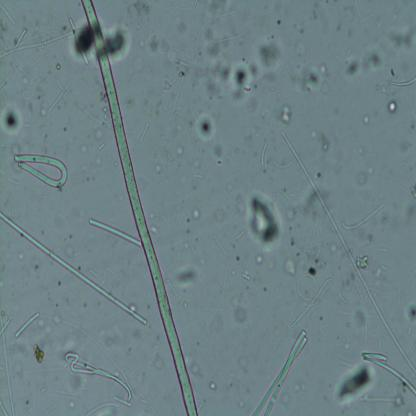Background material: (0, 26, 84, 61), (244, 189, 283, 249), (332, 359, 376, 407), (1, 64, 45, 110), (210, 59, 256, 101), (344, 48, 387, 79), (158, 124, 188, 165), (296, 62, 331, 94), (105, 24, 131, 63), (286, 191, 320, 220), (121, 0, 157, 27), (299, 240, 326, 274), (258, 40, 284, 70), (0, 103, 22, 136), (173, 262, 200, 287), (387, 28, 416, 51), (194, 112, 216, 140), (353, 302, 371, 336), (404, 183, 416, 230), (209, 134, 226, 166), (144, 36, 170, 56), (206, 203, 230, 224), (204, 30, 220, 61), (290, 37, 309, 62), (354, 167, 380, 185), (191, 156, 205, 185), (390, 382, 404, 410), (62, 242, 81, 262), (233, 304, 250, 326), (30, 342, 46, 365), (235, 348, 250, 372), (106, 333, 132, 346), (149, 209, 162, 234), (316, 132, 331, 153), (101, 102, 113, 128), (336, 286, 350, 308), (373, 79, 390, 97), (404, 299, 416, 323), (372, 262, 388, 280), (284, 258, 299, 276), (355, 254, 371, 270), (281, 233, 298, 248), (310, 1, 322, 22), (281, 104, 293, 125), (294, 378, 308, 395), (350, 0, 362, 16), (130, 322, 142, 338), (122, 94, 135, 108), (13, 140, 26, 154), (278, 389, 288, 407), (192, 360, 202, 378), (153, 355, 164, 371), (335, 15, 344, 34), (37, 105, 49, 119), (387, 100, 399, 114), (49, 310, 60, 325), (79, 142, 88, 160), (190, 208, 202, 221), (355, 143, 365, 156), (254, 253, 263, 266), (208, 379, 217, 391), (19, 250, 26, 265), (154, 164, 164, 173), (258, 286, 269, 294), (84, 174, 96, 181), (33, 262, 41, 272), (364, 114, 370, 126), (54, 278, 62, 286), (239, 398, 247, 406), (234, 256, 242, 263), (277, 18, 284, 26), (55, 63, 62, 70), (69, 233, 75, 240), (82, 300, 87, 308), (185, 227, 190, 235), (186, 216, 190, 226), (184, 298, 188, 307)
Glass filter fibre: (281, 131, 416, 376), (0, 210, 148, 325), (252, 330, 310, 415), (65, 351, 132, 402), (362, 351, 416, 398), (292, 274, 336, 327), (14, 155, 69, 188), (88, 217, 142, 248), (0, 316, 17, 414), (168, 59, 190, 122), (341, 202, 387, 230), (67, 18, 89, 66), (48, 78, 72, 113), (24, 382, 46, 416), (14, 312, 41, 338), (7, 29, 27, 63), (87, 400, 120, 416), (214, 32, 244, 45), (212, 234, 228, 258), (0, 3, 16, 26), (387, 76, 416, 86), (271, 158, 295, 170), (139, 122, 150, 145), (0, 316, 12, 337), (258, 142, 268, 166), (97, 142, 106, 152), (240, 273, 250, 282), (237, 230, 245, 241)
Microfibre: (81, 0, 200, 416)
